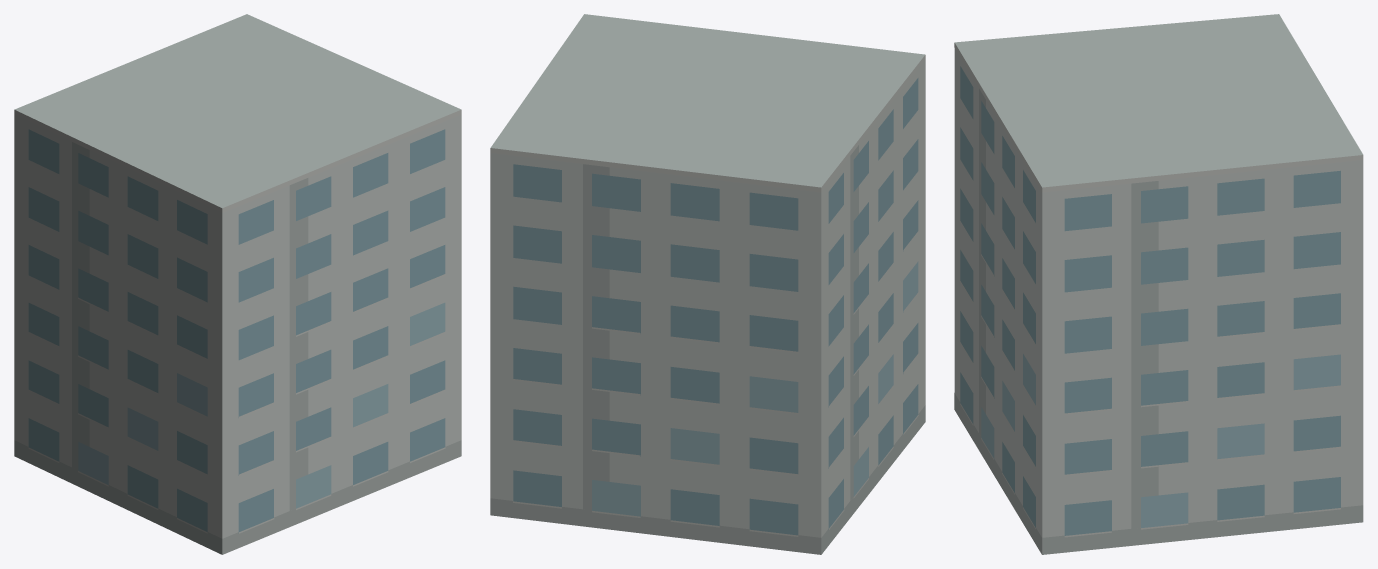
Rendered from survey-upis-32651580.glb.
3 renders of one model, left to right at view 1: azimuth 30°, elevation 25°; view 2: azimuth 150°, elevation 25°; view 3: azimuth 270°, elevation 25°, orthographic. The views are drawn at different scales.
Parts seen in each view (by area): view 1: survey-upis-32651580.tmp; view 2: survey-upis-32651580.tmp; view 3: survey-upis-32651580.tmp.
Boxes of the visible parts, box(x1,y1,x2,y2) form: survey-upis-32651580.tmp: box(14, 14, 461, 554); survey-upis-32651580.tmp: box(490, 14, 925, 554); survey-upis-32651580.tmp: box(954, 14, 1363, 554).
Bounding box in the file's own units: 17.73 × 17.5 × 17.66.
